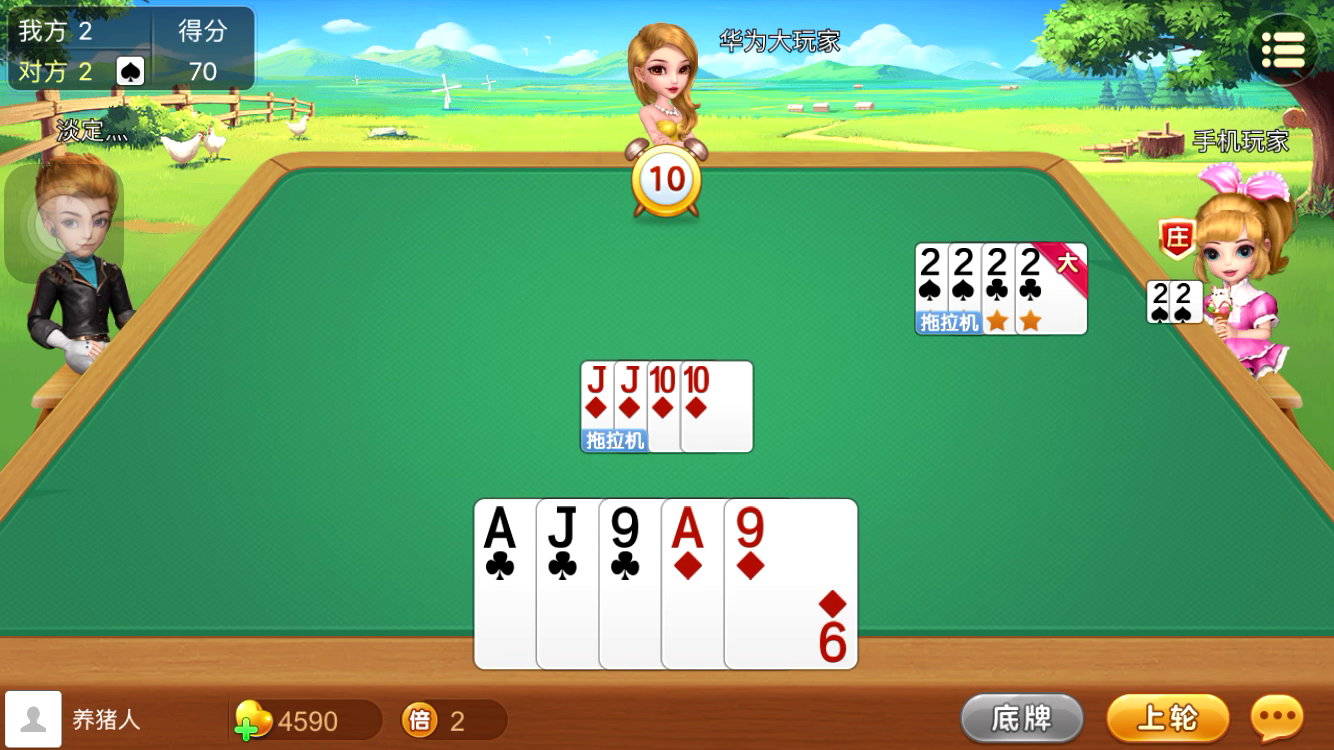A: (478, 502, 526, 555), (665, 503, 714, 554)
J: (542, 503, 586, 555), (580, 361, 611, 399), (616, 362, 645, 399)
nine: (727, 504, 776, 555), (602, 504, 650, 556)
ten: (682, 363, 717, 400), (646, 363, 681, 398)
two: (1017, 244, 1050, 283), (916, 245, 945, 283), (949, 245, 978, 283), (983, 246, 1011, 285), (1147, 281, 1171, 309), (1172, 282, 1197, 308)
